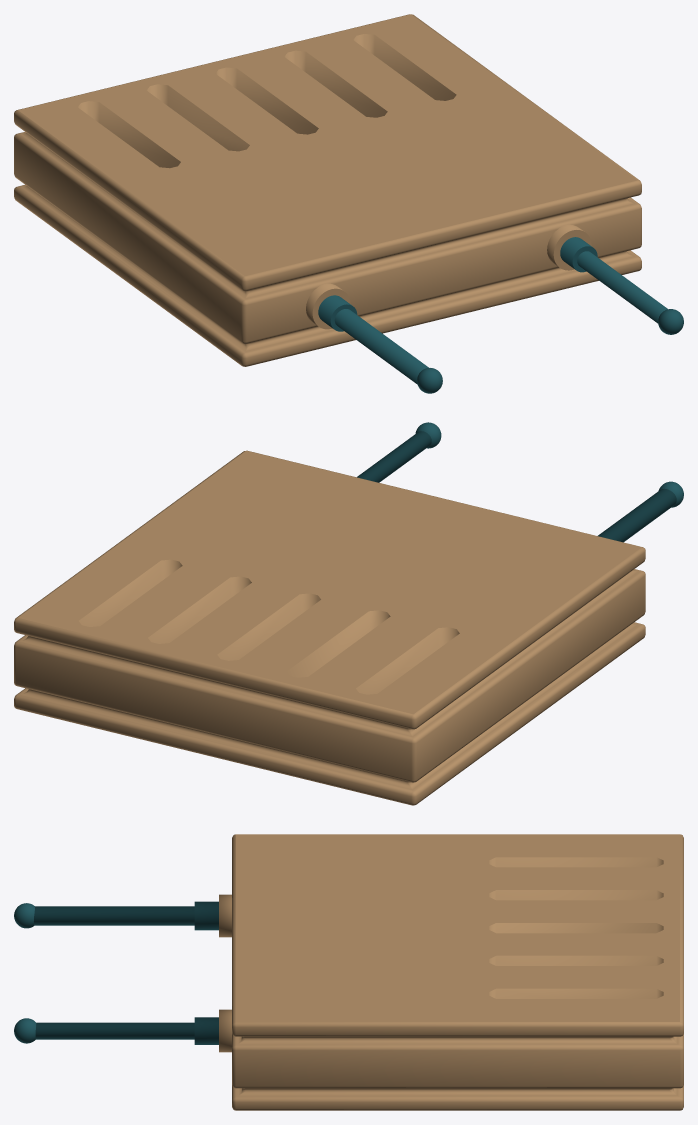
The model's file is router_tier3.fbx.
The picture shows the model from 3 angles, top to bottom: view 1: azimuth 30°, elevation 25°; view 2: azimuth 150°, elevation 25°; view 3: azimuth 270°, elevation 25°; orthographic projection. The views are drawn at different scales.
Parts seen in each view (by area): view 1: Sphere.001, Sphere.002; view 2: Sphere.001, Sphere.002; view 3: Sphere.001, Sphere.002.
Boxes of the visible parts, x1,y1,x2,y2 form: Sphere.001: (14, 14, 641, 366); Sphere.002: (306, 224, 683, 393); Sphere.001: (14, 450, 645, 805); Sphere.002: (357, 422, 683, 542); Sphere.001: (232, 834, 683, 1110); Sphere.002: (14, 894, 231, 1052).
Size of the model in its own units: 0.3945 by 0.0854 by 0.5848.
